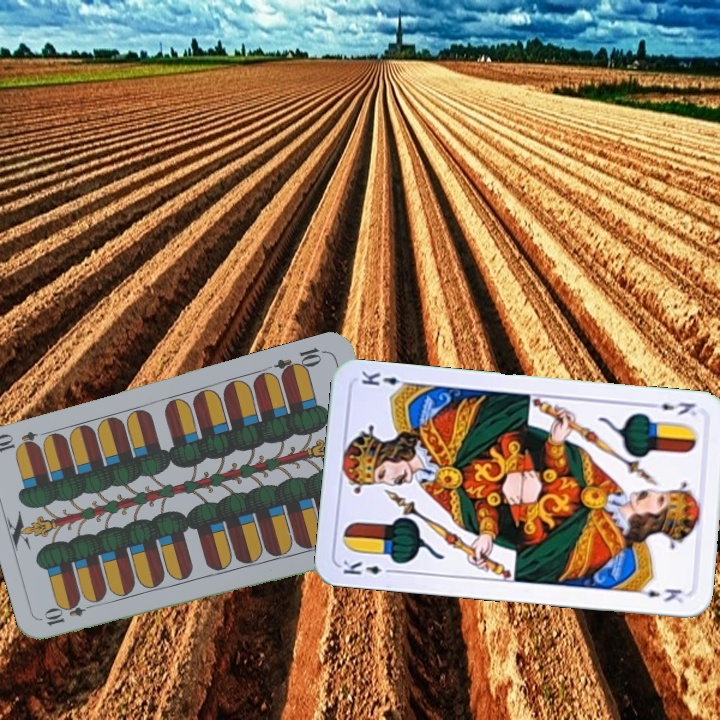E10: (271, 343, 329, 380), (40, 597, 99, 629)
EK: (339, 556, 398, 578), (644, 398, 699, 418)
